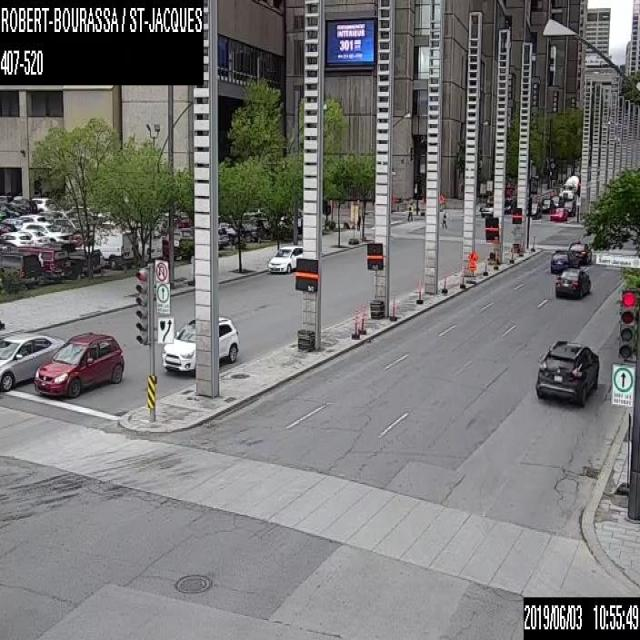construction: (466, 248, 479, 269), (418, 281, 422, 300), (360, 313, 364, 331), (391, 298, 394, 318), (510, 245, 514, 260), (518, 241, 522, 255), (354, 318, 357, 334), (494, 253, 497, 267), (443, 276, 446, 289), (531, 235, 534, 248), (483, 262, 486, 274), (461, 274, 464, 286)
pedestrian: (405, 201, 413, 219), (441, 212, 447, 227)
vehicle: (34, 330, 122, 396), (158, 315, 238, 375), (535, 339, 599, 404), (0, 331, 65, 387), (76, 226, 132, 268), (20, 220, 74, 247), (0, 250, 36, 288), (35, 248, 79, 279), (555, 266, 591, 298), (134, 226, 162, 264), (267, 243, 302, 272), (3, 197, 38, 216), (550, 249, 579, 271), (240, 217, 264, 241), (568, 241, 592, 264), (557, 175, 578, 199), (0, 230, 33, 245), (31, 197, 55, 211), (2, 217, 26, 228), (560, 199, 576, 215), (526, 201, 541, 218), (479, 200, 493, 216), (550, 207, 567, 220), (216, 226, 226, 248), (18, 212, 44, 220), (540, 197, 553, 213)
